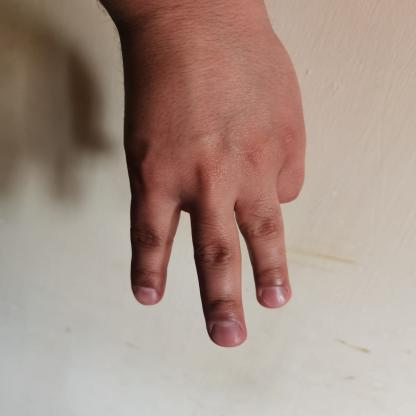M: (91, 0, 354, 359)
